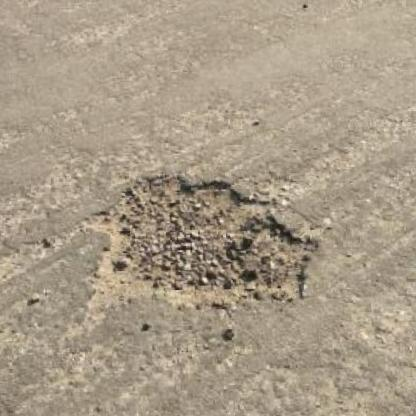pothole: (77, 168, 322, 311)
